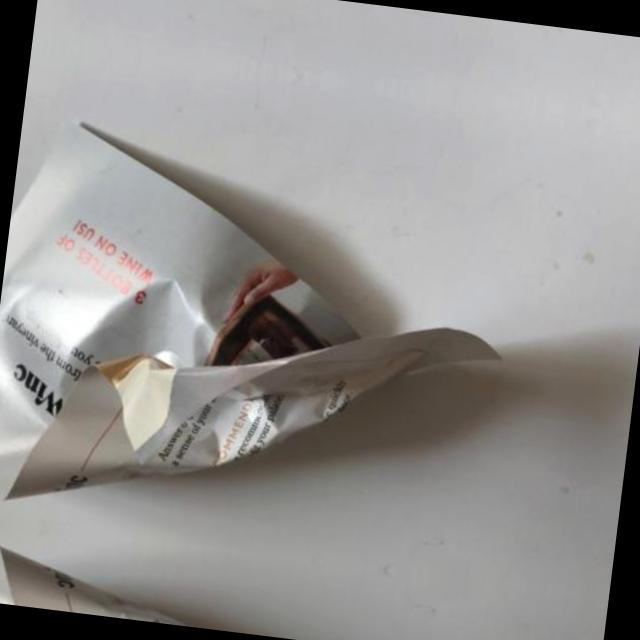paper: (0, 100, 531, 566), (0, 534, 477, 640), (38, 0, 547, 47)
